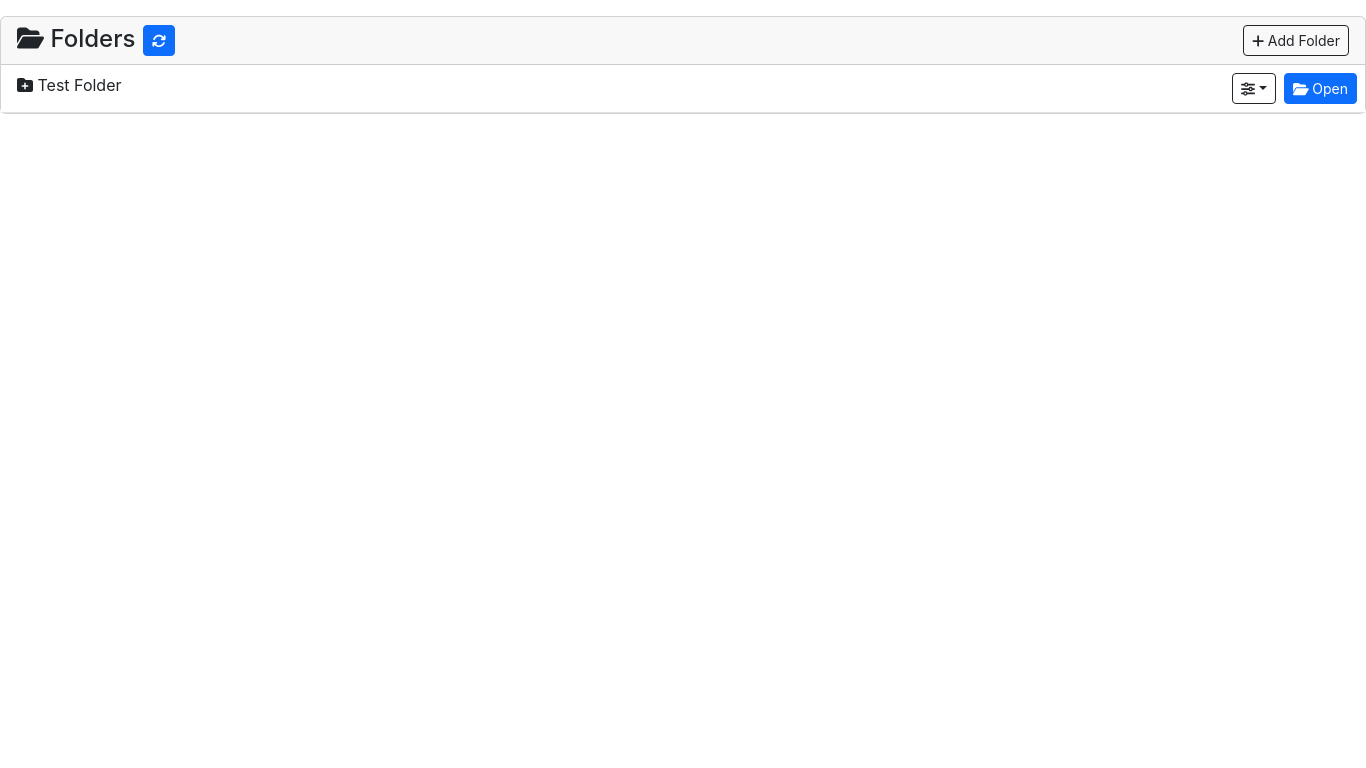
Folders Component › Testing toggleActionModal() response › a successful response
Click the 3rd picture.
click(1258, 41)  # box [1252,34,1264,48]
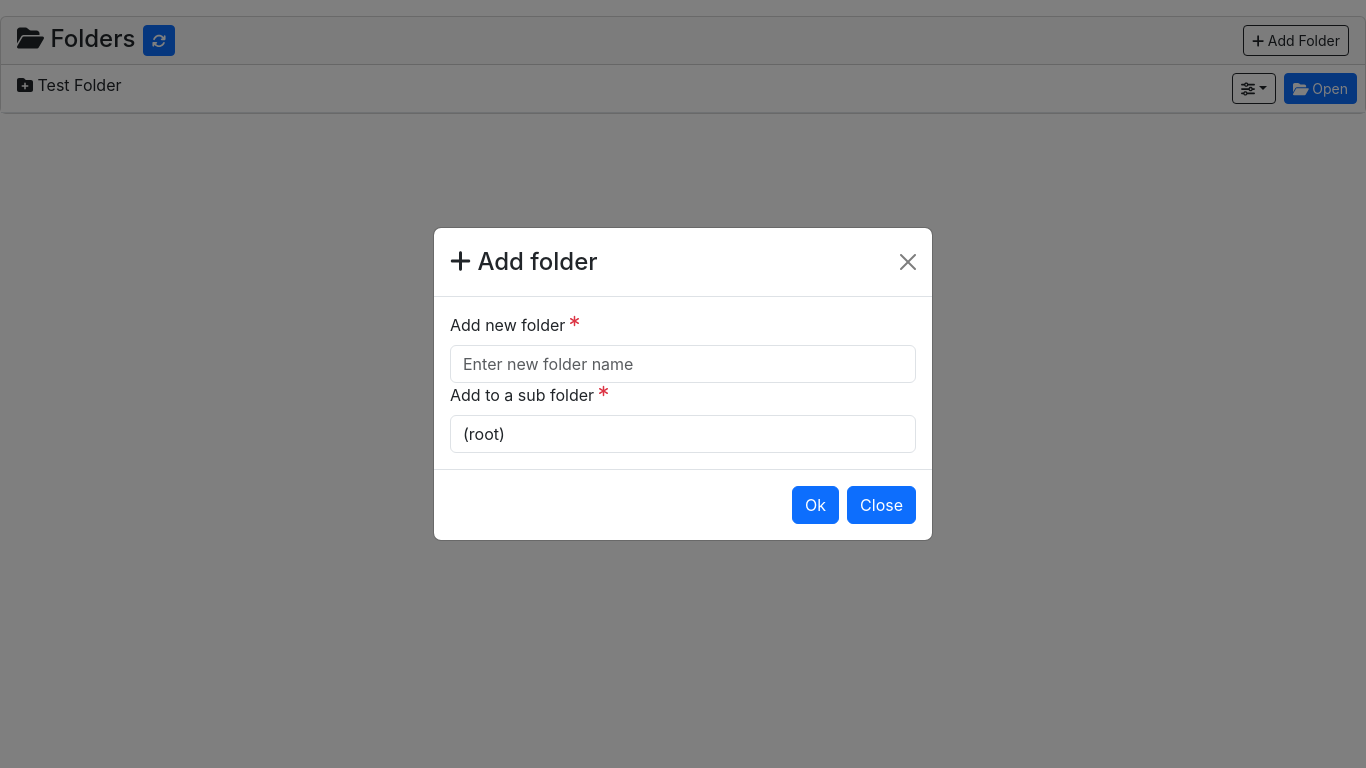
Expected: the text "Add new folder" is shown, [450,313,579,337]
